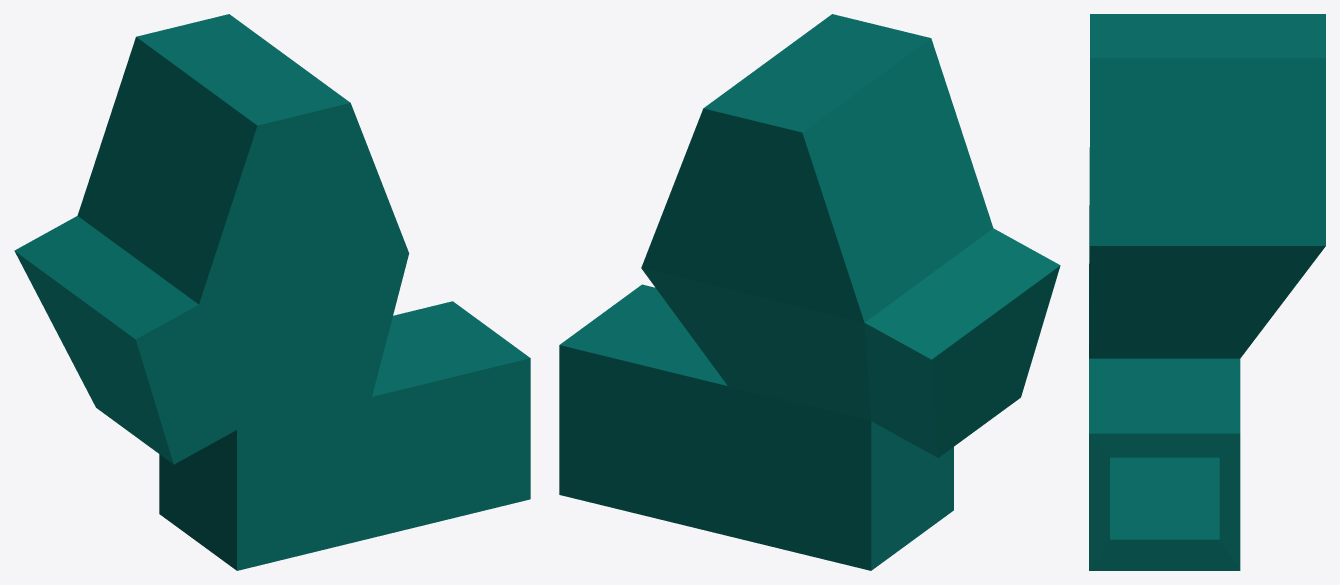
Rendered from tunnels_0000_col.obj.
3 views of the same model, side by side, from view 1: azimuth 30°, elevation 25°; view 2: azimuth 150°, elevation 25°; view 3: azimuth 270°, elevation 25° (orthographic). The views are drawn at different scales.
Visible parts, largest first — view 1: Cube.018_Cube.019; view 2: Cube.018_Cube.019; view 3: Cube.018_Cube.019.
Part boxes in pixels (box(x1,y1,x2,y2)): Cube.018_Cube.019: box(14, 14, 530, 570); Cube.018_Cube.019: box(559, 14, 1060, 570); Cube.018_Cube.019: box(1089, 14, 1325, 570).
Size of the model in its own units: 351 by 374 by 188.
